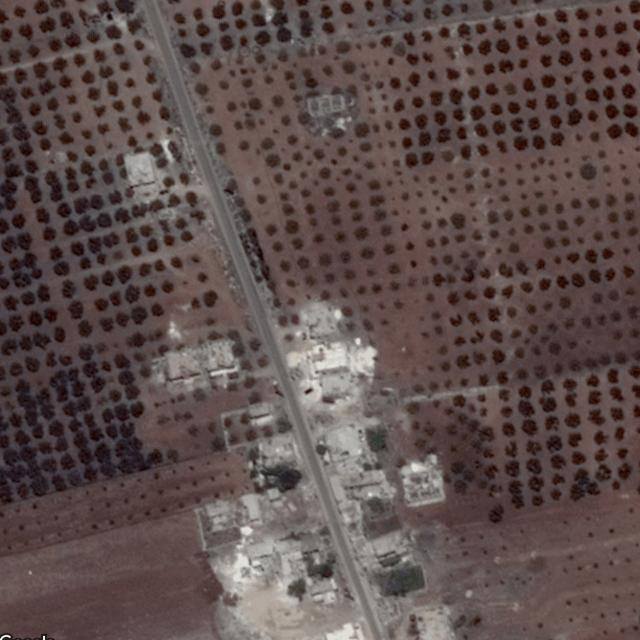damaged_building: (211, 532, 336, 628), (288, 340, 378, 410), (150, 338, 238, 391), (300, 303, 345, 338)
